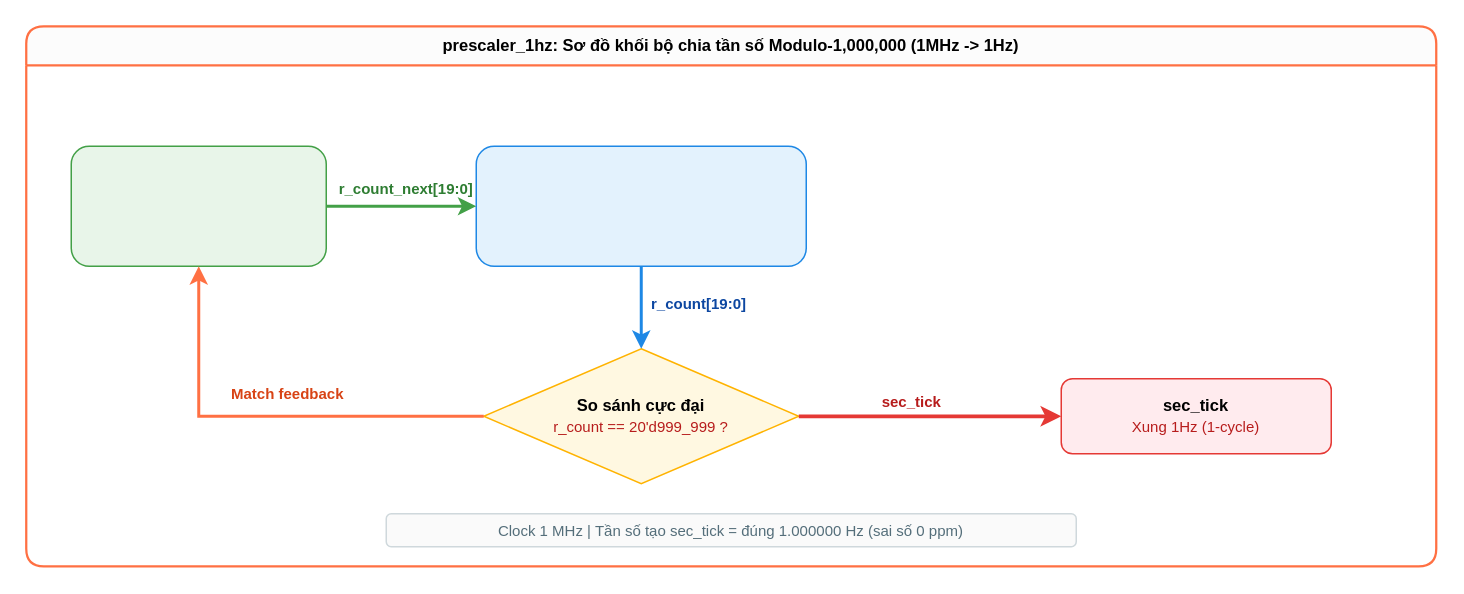
Image size: 1464x594. Some labels were removed from this diagram. The box of each missing label's shape, as (x1, y1, x2, y2) in pixels:
MUX 2:1 Match ? 0 : r_count+1: (70, 145, 326, 266)
Thanh ghi đếm 20-bit r_count[19:0] 0 .. 999,999 (10^6 cycles): (475, 145, 806, 266)
